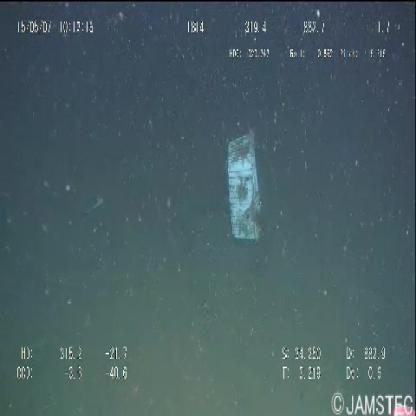Rác: (226, 136, 264, 246)
